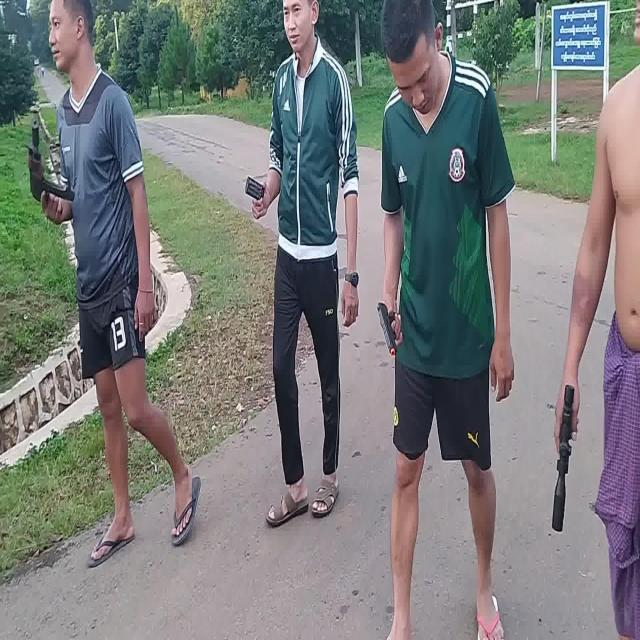gun: (31, 122, 74, 202), (376, 302, 400, 354)
